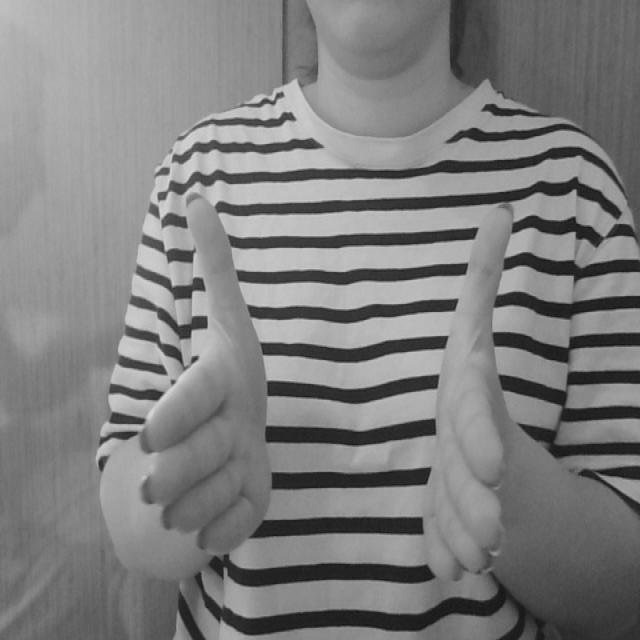Nasil: (131, 178, 524, 592)
